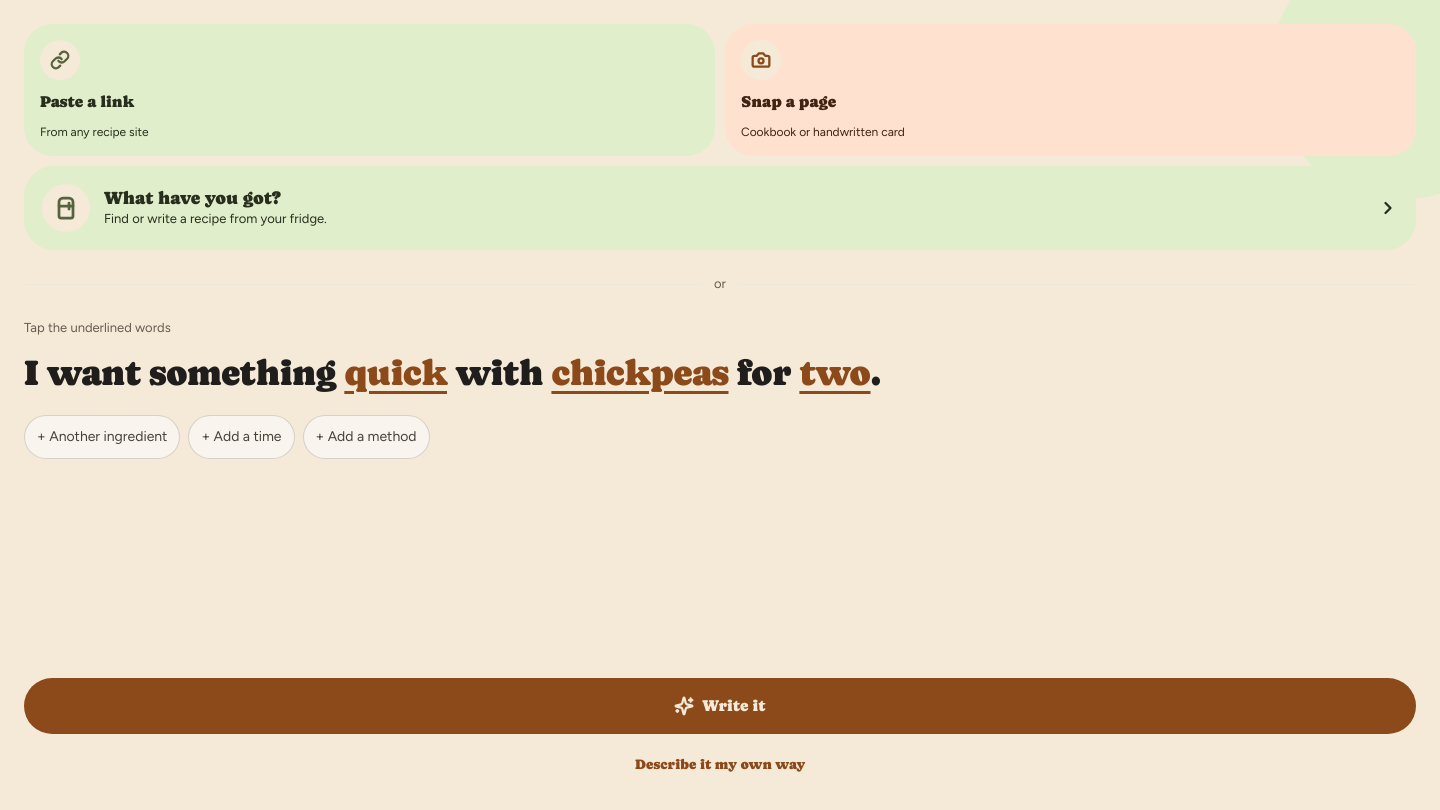
Test: CreatePage › cycles each word and announces only the new word
Click the button "quick": (396, 373) 344,346 -> 447,399
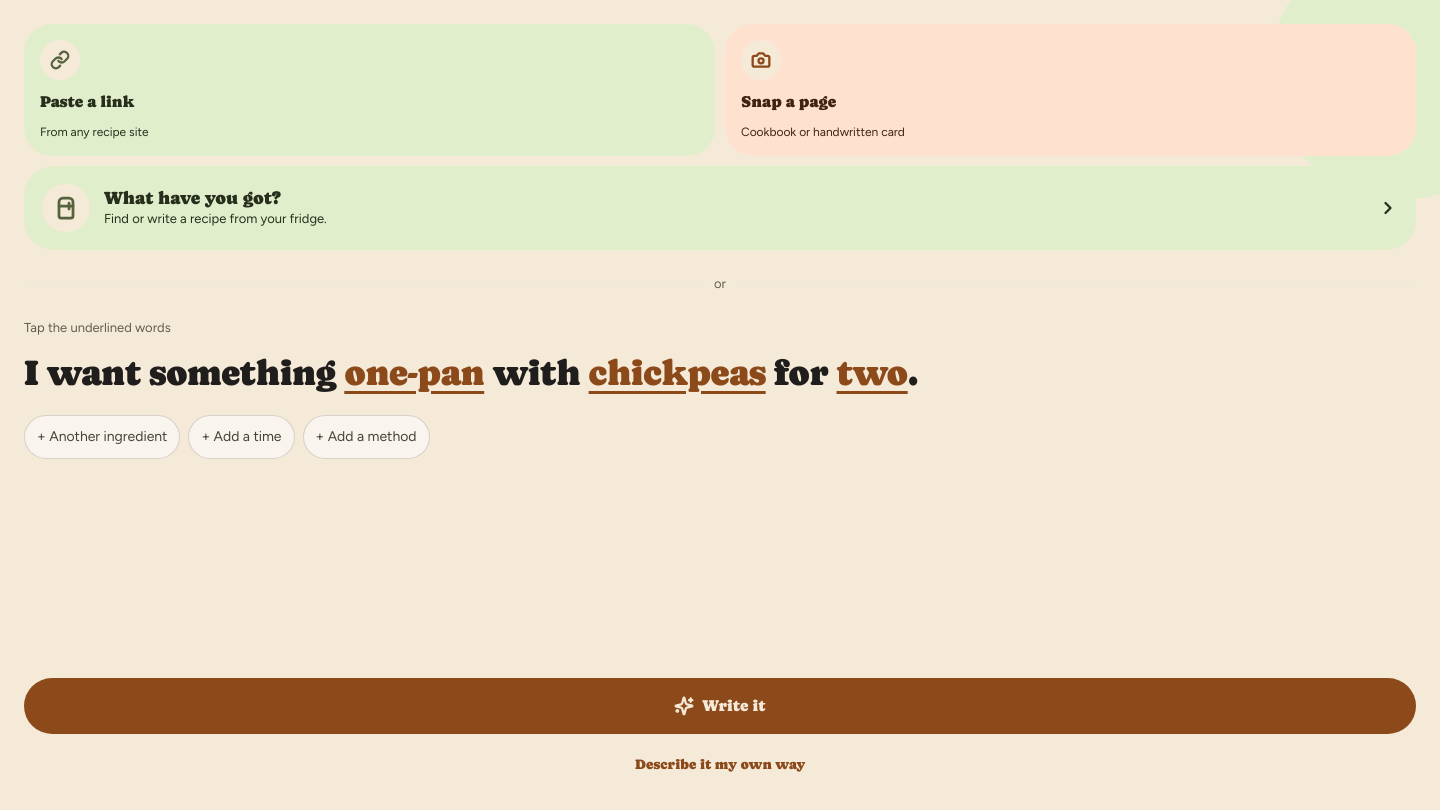
Expected: the button named "quick" reads "one-pan", 344,346 -> 484,399
Click the button "chickpeas": (677, 373) 589,346 -> 766,399
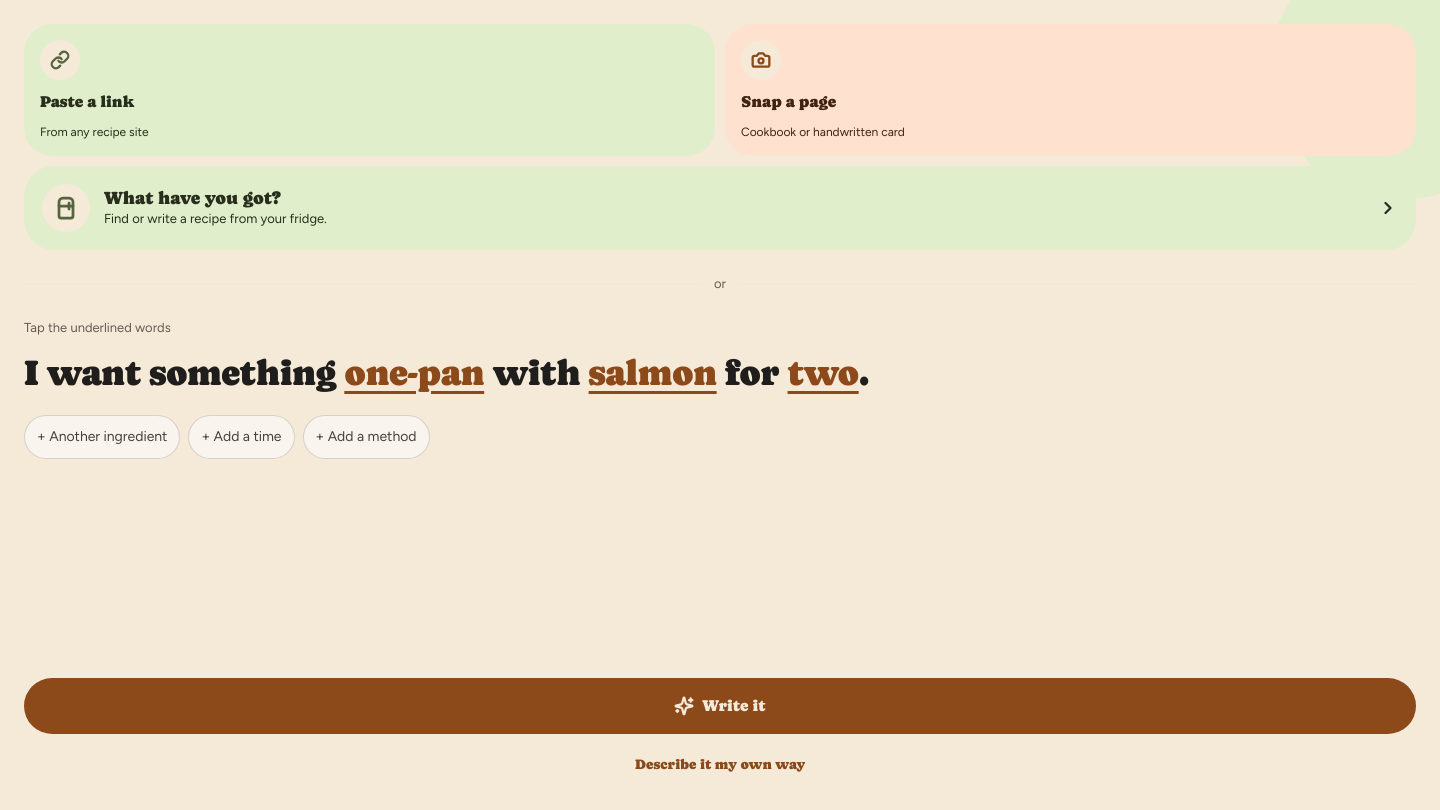
Expected: the button named "chickpeas" reads "salmon", 589,346 -> 717,399
Click the button "two": (823, 373) 788,346 -> 859,399
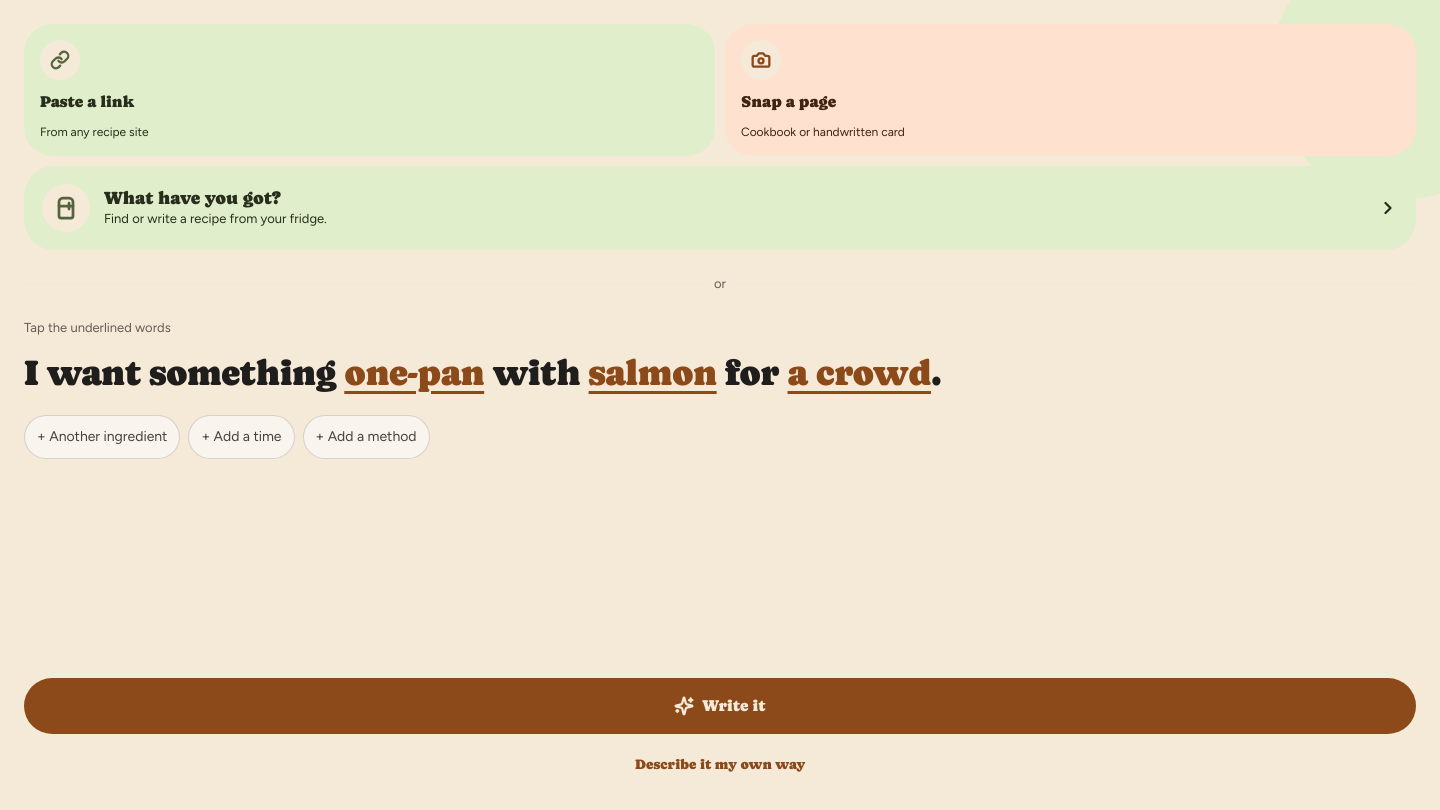
Expected: the button named "two" reads "a crowd", 788,346 -> 931,399
Expected: the heading reads "I want something one-pan with salmon for a crowd .", 24,346 -> 941,399
Click the button "one-pan": (414, 373) 344,346 -> 484,399
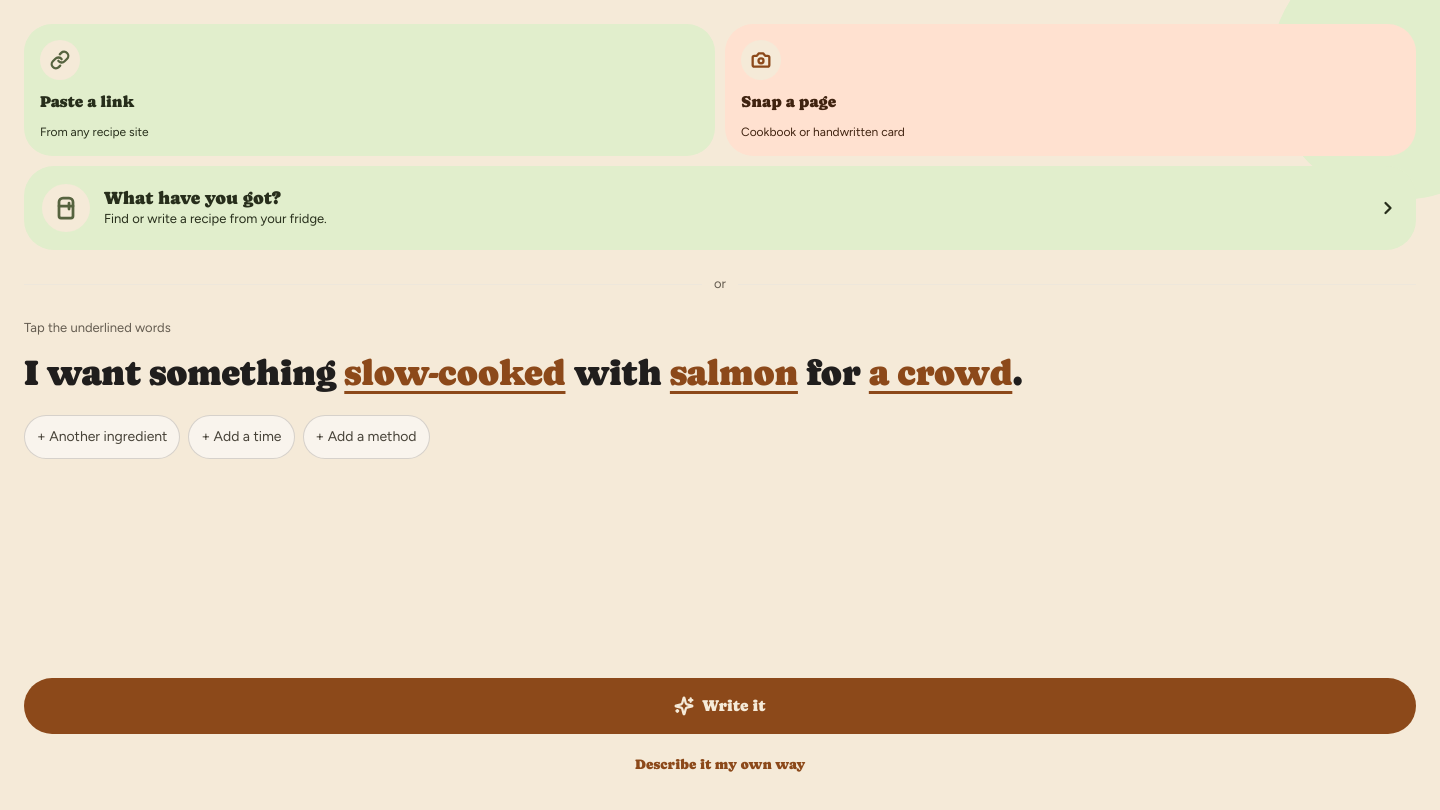
Click the button "slow-cooked": (455, 373) 344,346 -> 566,399
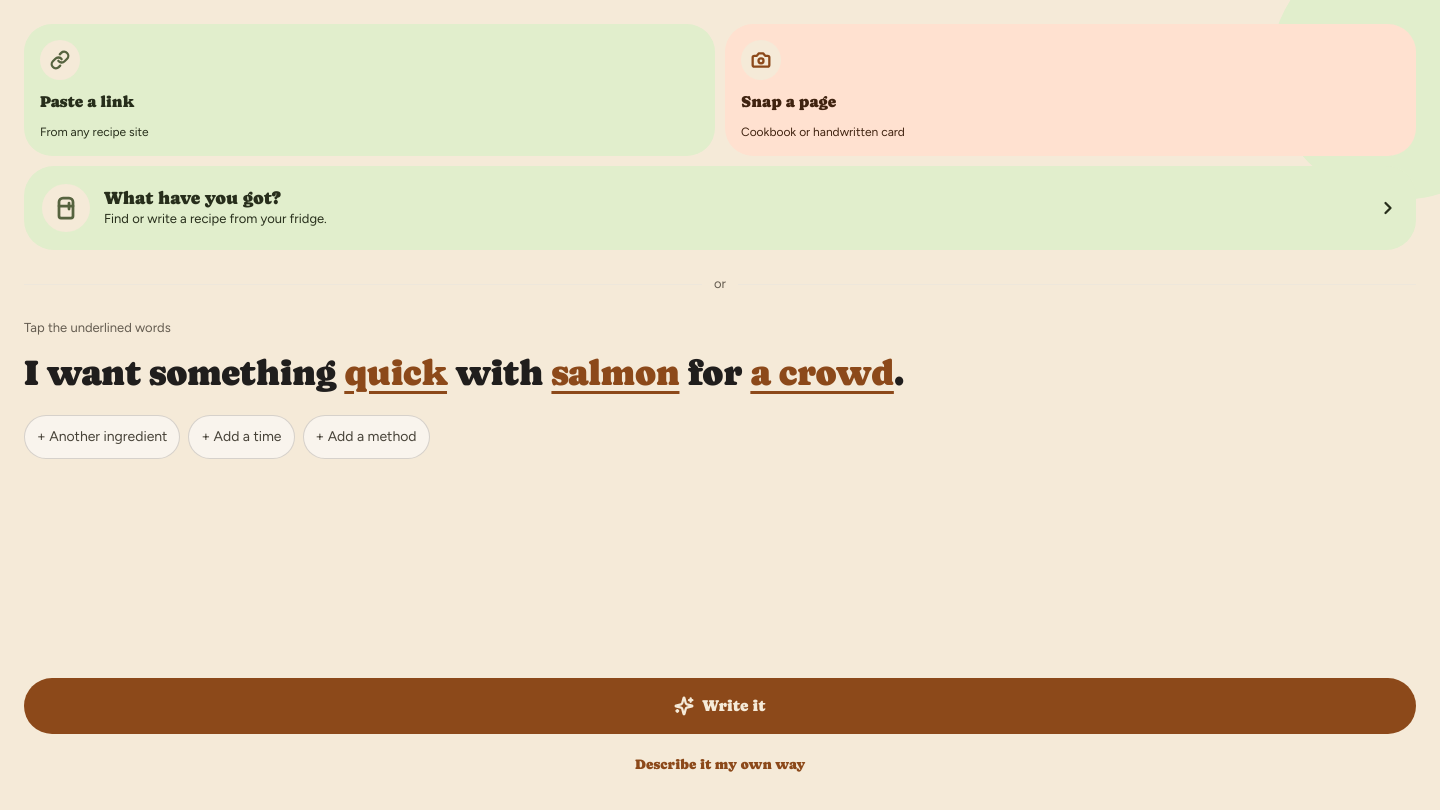
Expected: the button "quick" is shown, 344,346 -> 447,399
